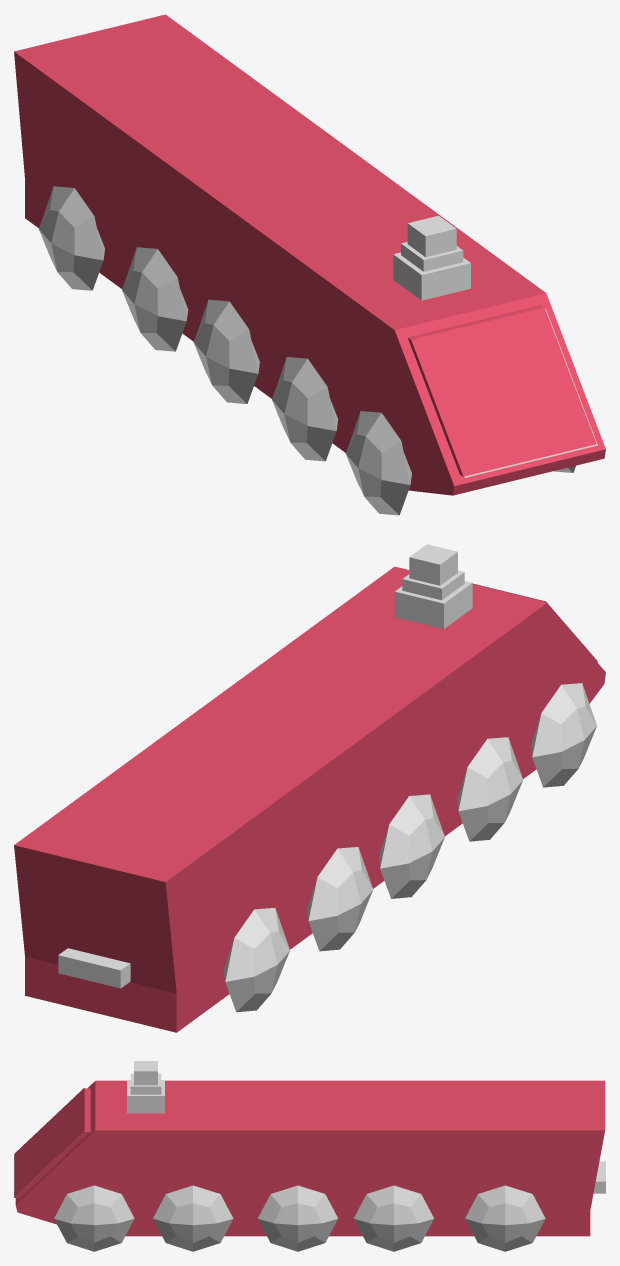
File: train_engine.fbx
3 renders of one model, top to bottom at view 1: azimuth 30°, elevation 25°; view 2: azimuth 150°, elevation 25°; view 3: azimuth 270°, elevation 25°, orthographic. The views are drawn at different scales.
Parts seen in each view (by area): view 1: Cube, Cube.014, Cube.013, Cube.006, Cube.005, Cube.004, Cube.003, Cube.002; view 2: Cube, Cube.013, Cube.004, Cube.005, Cube.003, Cube.002, Cube.006, Cube.016; view 3: Cube, Cube.008, Cube.009, Cube.011, Cube.007, Cube.010, Cube.014, Cube.013, Cube.016.
Part boxes in pixels (x1,y1,x2,y2): Cube: [14, 14, 605, 495]; Cube.014: [411, 307, 596, 476]; Cube.013: [393, 215, 470, 300]; Cube.006: [39, 186, 104, 290]; Cube.005: [122, 247, 188, 351]; Cube.004: [193, 299, 259, 403]; Cube.003: [272, 357, 338, 461]; Cube.002: [345, 411, 411, 515]; Cube: [14, 566, 605, 1032]; Cube.013: [394, 544, 472, 628]; Cube.004: [378, 794, 444, 898]; Cube.005: [307, 847, 373, 951]; Cube.003: [457, 737, 523, 841]; Cube.002: [530, 683, 596, 787]; Cube.006: [223, 908, 289, 1012]; Cube.016: [58, 948, 130, 988]; Cube: [14, 1080, 605, 1236]; Cube.008: [353, 1185, 434, 1251]; Cube.009: [257, 1185, 338, 1251]; Cube.011: [54, 1185, 134, 1251]; Cube.007: [465, 1185, 545, 1251]; Cube.010: [153, 1185, 233, 1251]; Cube.014: [14, 1088, 84, 1196]; Cube.013: [127, 1061, 164, 1113]; Cube.016: [593, 1161, 605, 1193].
Bounding box in the file's own units: 424 × 447 × 1510.
